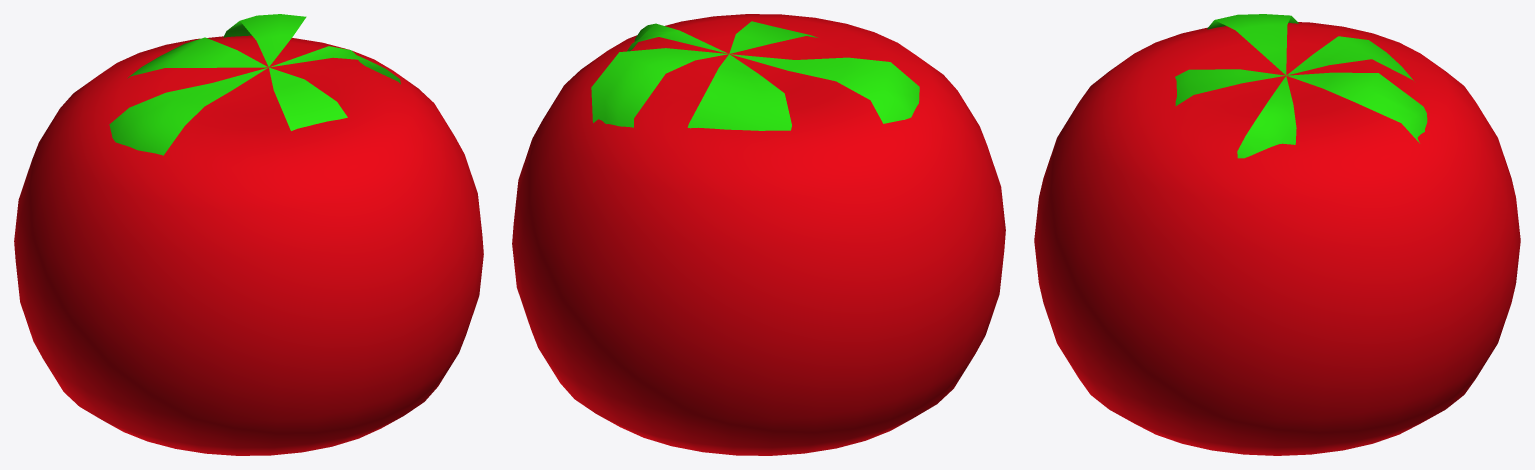
File: tomato.glb
The picture shows the model from 3 angles, left to right: view 1: azimuth 30°, elevation 25°; view 2: azimuth 150°, elevation 25°; view 3: azimuth 270°, elevation 25°; orthographic projection. The views are drawn at different scales.
Visible parts, largest first — view 1: Sphere, Sphere.001; view 2: Sphere, Sphere.001; view 3: Sphere, Sphere.001.
Part boxes in pixels (x1,y1,x2,y2): Sphere: (14,35,483,455); Sphere.001: (109,14,400,155); Sphere: (512,14,1005,455); Sphere.001: (591,21,919,130); Sphere: (1034,22,1520,455); Sphere.001: (1175,14,1427,158).
Bounding box in the file's own units: 2 × 1.53 × 2.
